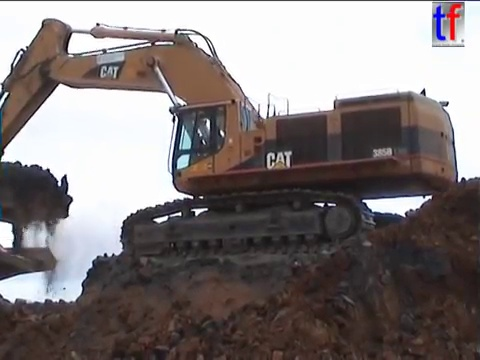excavator: (1, 14, 464, 260)
truck: (1, 240, 60, 284)
